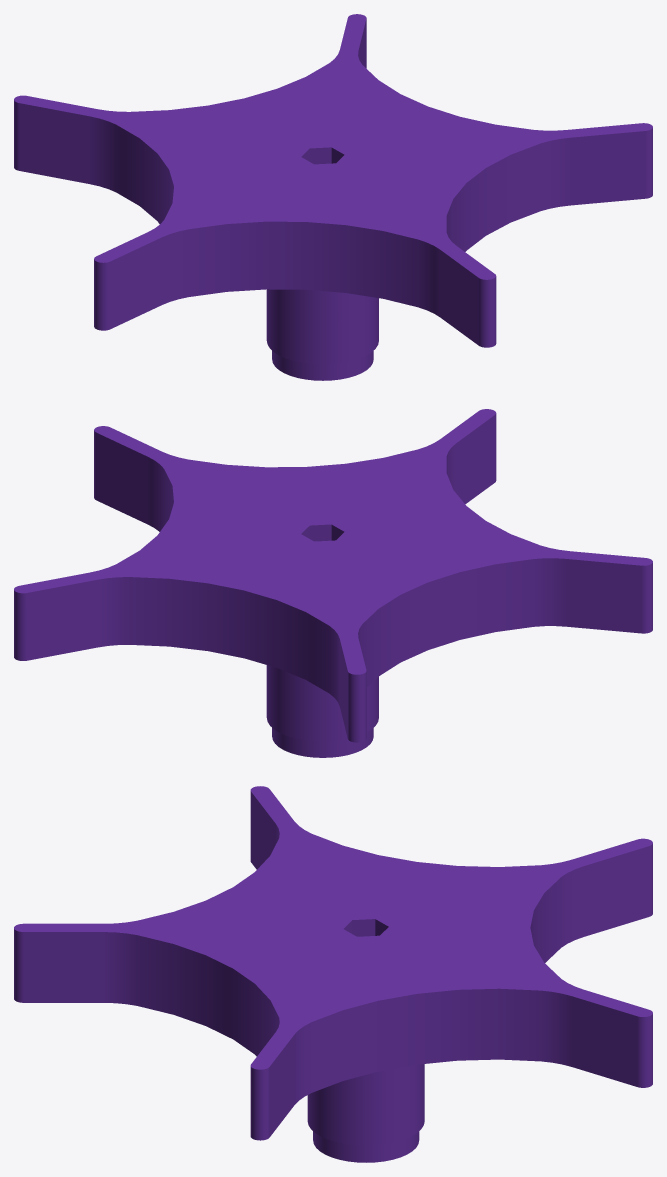
The picture shows the model from 3 angles, top to bottom: view 1: azimuth 30°, elevation 25°; view 2: azimuth 150°, elevation 25°; view 3: azimuth 270°, elevation 25°; orthographic projection. The views are drawn at different scales.
Parts seen in each view (by area): view 1: Part 2; view 2: Part 2; view 3: Part 2.
Boxes of the visible parts, box(x1,y1,x2,y2) form: Part 2: box(14, 14, 652, 380); Part 2: box(14, 409, 652, 757); Part 2: box(14, 786, 652, 1162).
Bounding box in the file's own units: 0.218 × 0.0762 × 0.2077.
